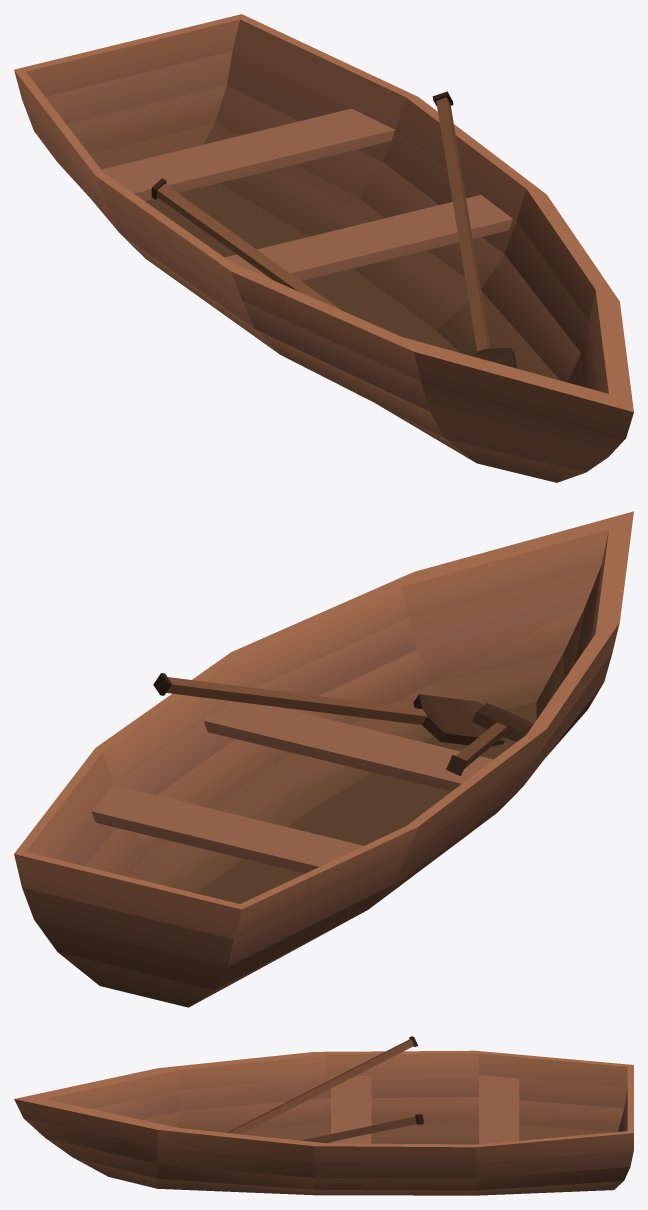
The model's file is Boat_1.fbx.
3 views of the same model, one above another, from view 1: azimuth 30°, elevation 25°; view 2: azimuth 150°, elevation 25°; view 3: azimuth 270°, elevation 25° (orthographic). The views are drawn at different scales.
Parts seen in each view (by area): view 1: Boat_1, Oat_2, Oat_1; view 2: Boat_1, Oat_2, Oat_1; view 3: Boat_1, Oat_1, Oat_2.
Part boxes in pixels (x1=…): Boat_1: x1=14, y1=14, x2=633, y2=482; Oat_2: x1=432, y1=91, x2=517, y2=368; Oat_1: x1=151, y1=178, x2=341, y2=310; Boat_1: x1=14, y1=511, x2=633, y2=1007; Oat_2: x1=153, y1=673, x2=504, y2=746; Oat_1: x1=446, y1=703, x2=533, y2=775; Boat_1: x1=14, y1=1050, x2=633, y2=1195; Oat_1: x1=227, y1=1036, x2=417, y2=1134; Oat_2: x1=301, y1=1114, x2=423, y2=1142.
Bounding box in the file's own units: 164 × 83.26 × 445.
